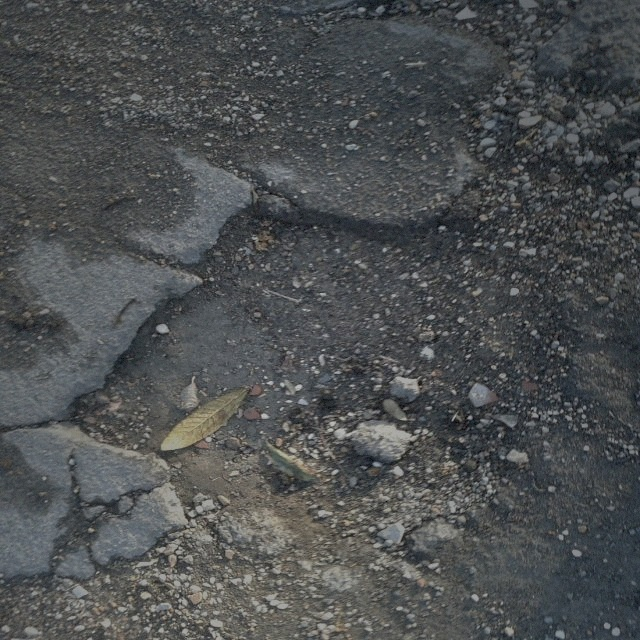pothole: (69, 202, 446, 513)
